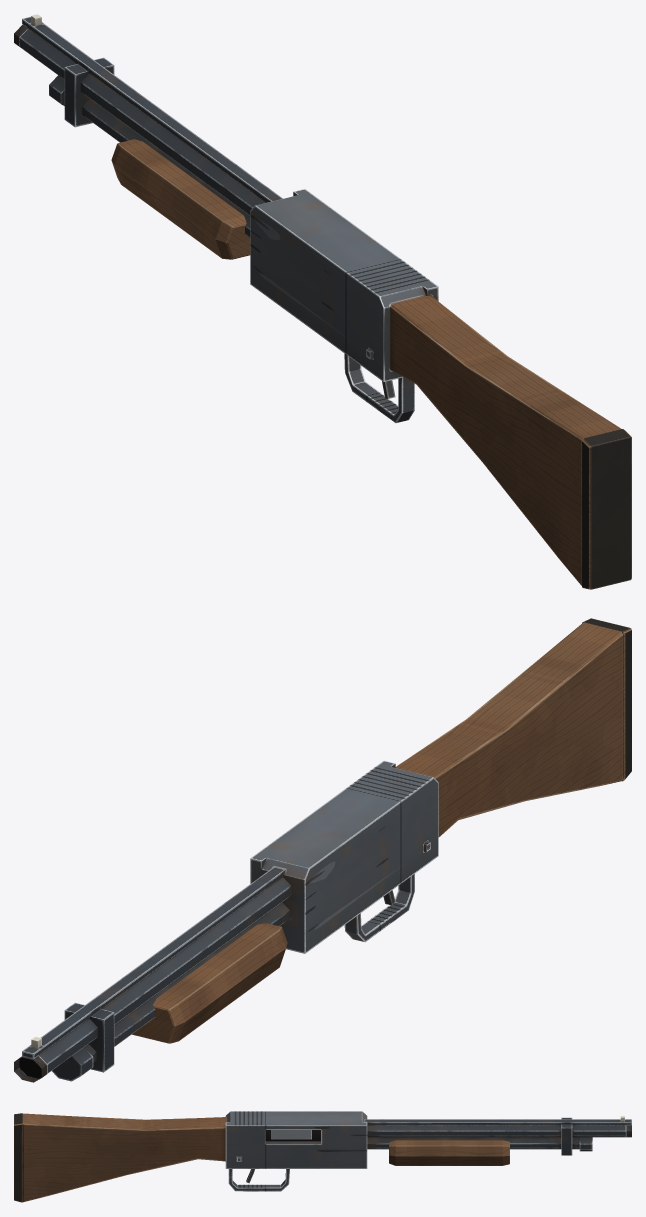
File: Escopeta_Mundo.glb
The picture shows the model from 3 angles, top to bottom: view 1: azimuth 30°, elevation 25°; view 2: azimuth 150°, elevation 25°; view 3: azimuth 270°, elevation 25°; orthographic projection. The views are drawn at different scales.
Parts seen in each view (by area): view 1: Handle, Bomba; view 2: Handle, Bomba; view 3: Handle, Bomba, Cerrojo.
Boxes of the visible parts, box(x1,y1,x2,y2) form: Handle: box(14, 14, 631, 589); Bomba: box(111, 139, 250, 259); Handle: box(14, 618, 631, 1082); Bomba: box(132, 923, 287, 1043); Handle: box(14, 1111, 631, 1202); Bomba: box(389, 1140, 509, 1165); Cerrojo: box(271, 1130, 311, 1139).
Size of the model in its own units: 0.2836 by 0.5838 by 4.06.
Materials: 1 (1 with a texture image).
